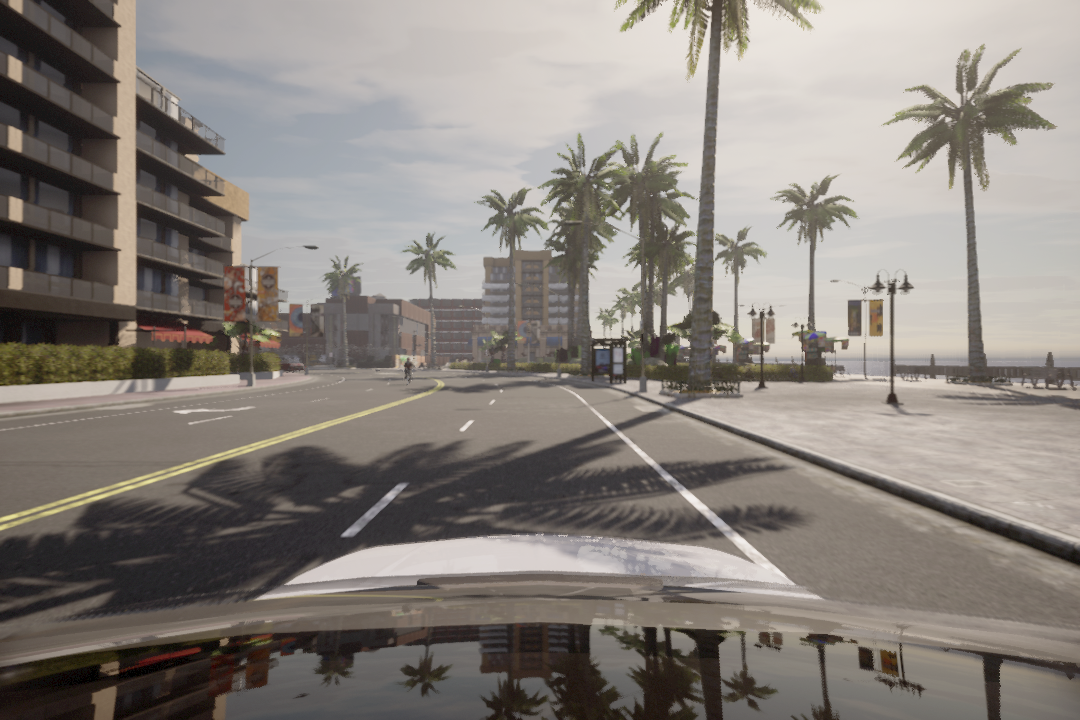RoadSign_right: (170, 403, 257, 422)
